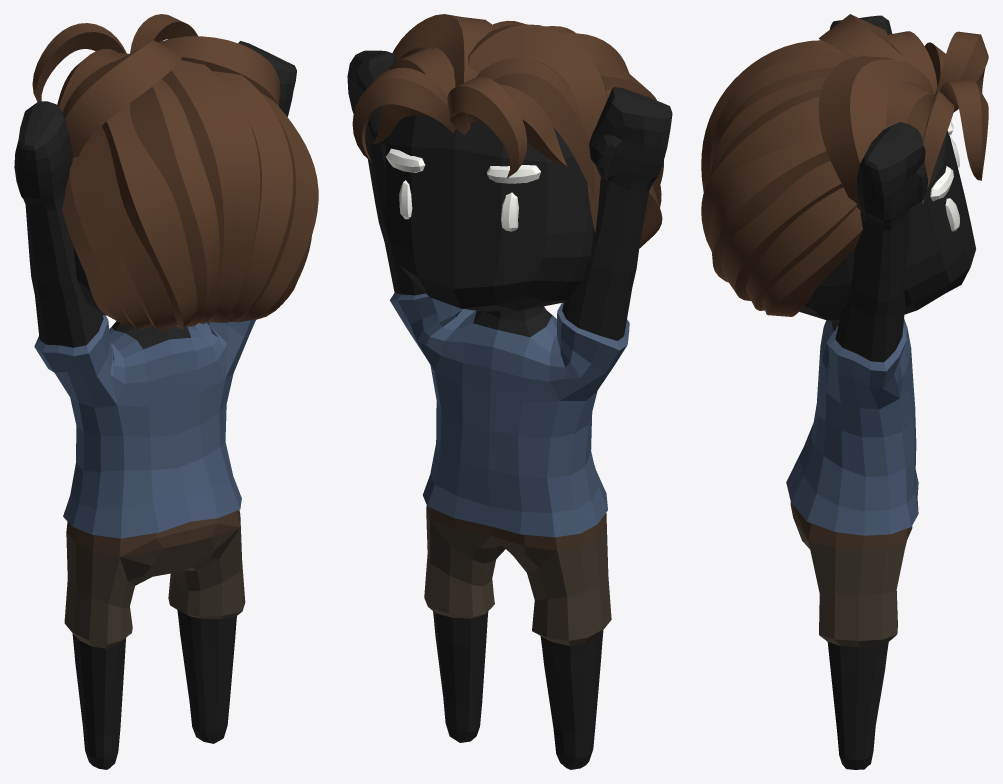
Rendered from Moun_Casual_Male_Cheer.fbx.
The picture shows the model from 3 angles, left to right: view 1: azimuth 30°, elevation 25°; view 2: azimuth 150°, elevation 25°; view 3: azimuth 270°, elevation 25°; orthographic projection. The views are drawn at different scales.
Visible parts, largest first — view 1: Moun_Casual_Male_Cheer; view 2: Moun_Casual_Male_Cheer; view 3: Moun_Casual_Male_Cheer.
Boxes of the visible parts, <box> form: Moun_Casual_Male_Cheer: <box>14,14,318,769</box>; Moun_Casual_Male_Cheer: <box>347,14,672,769</box>; Moun_Casual_Male_Cheer: <box>701,14,988,769</box>.
Size of the model in its own units: 0.7563 by 1.75 by 0.6376.
